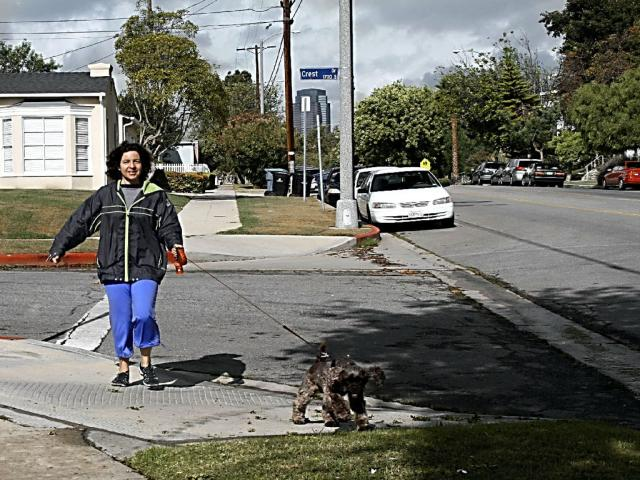Dog: (294, 342, 385, 432)
